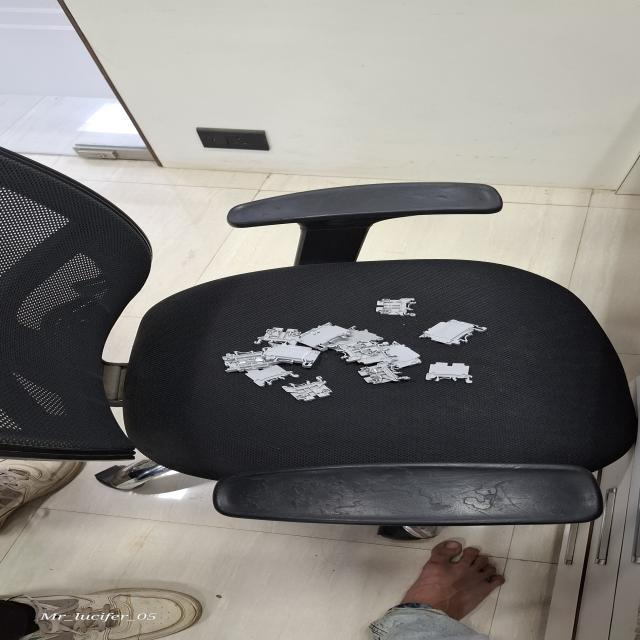Inverted: (421, 361, 476, 386)
Pass: (354, 360, 412, 386), (280, 376, 334, 402), (334, 338, 389, 361), (209, 348, 214, 352)
Reject: (252, 327, 308, 348), (370, 297, 418, 318)
